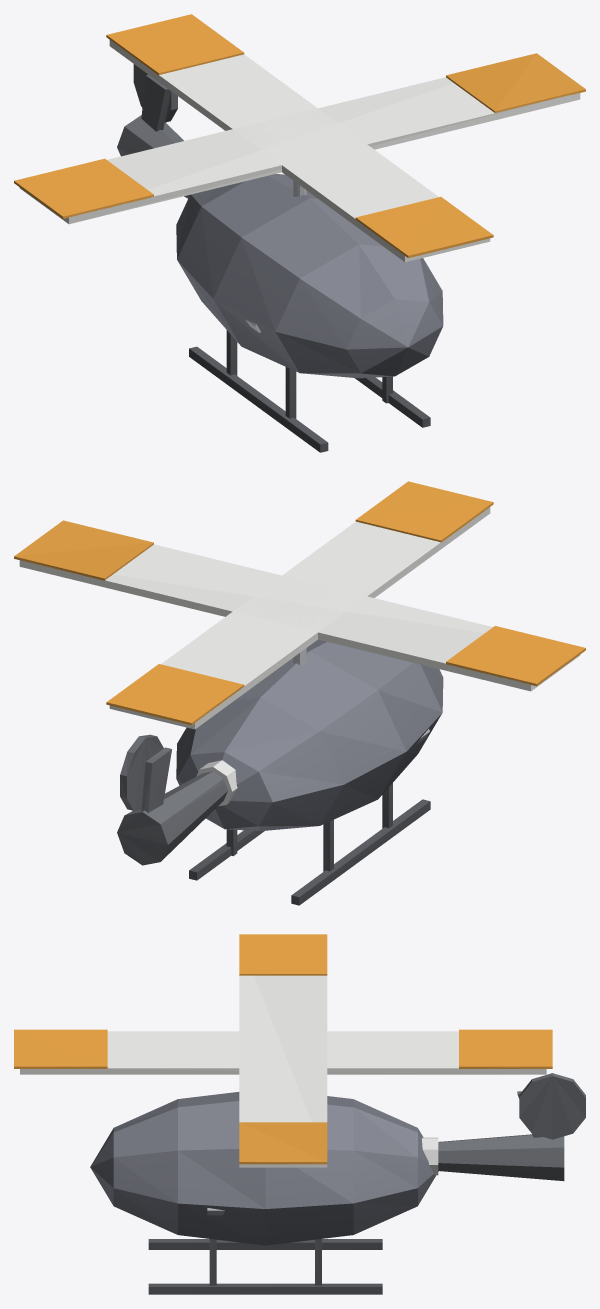
Rendered from Helicopter Gunship.glb.
3 views of the same model, one above another, from view 1: azimuth 30°, elevation 25°; view 2: azimuth 150°, elevation 25°; view 3: azimuth 270°, elevation 25° (orthographic). The views are drawn at different scales.
Parts seen in each view (by area): view 1: Body; view 2: Body; view 3: Body.
Boxes of the visible parts, x1,y1,x2,y2 form: Body: [14, 14, 585, 452]; Body: [14, 481, 585, 905]; Body: [14, 934, 585, 1294].
Bounding box in the file's own units: 0.92 × 0.419 × 0.9771.
